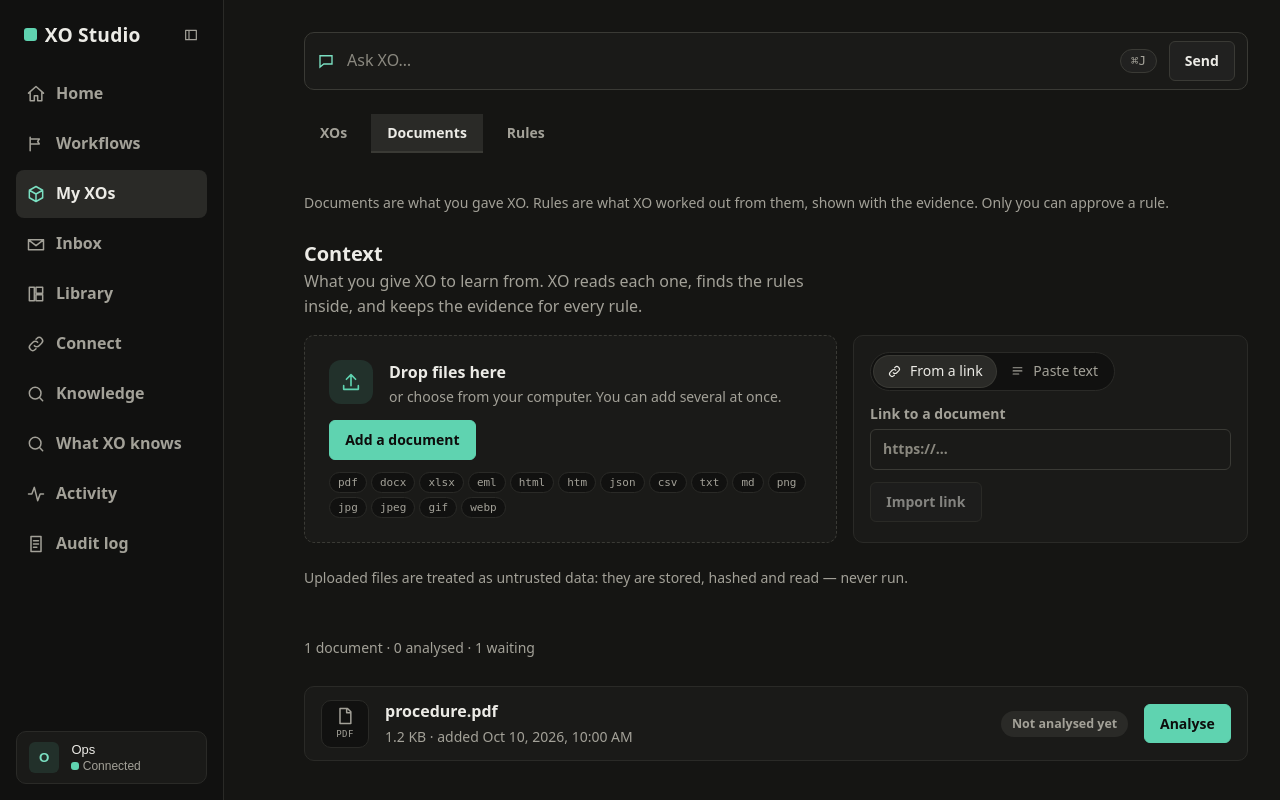
starting a process (workflow runtime) › a process that is not ready says what stands in the way and sends no run
The image size is (1280, 800).
Earlier steps of the test are not shown.
Click the button "Analyse" at (1187, 724), box left=1144, top=704, right=1231, bottom=743
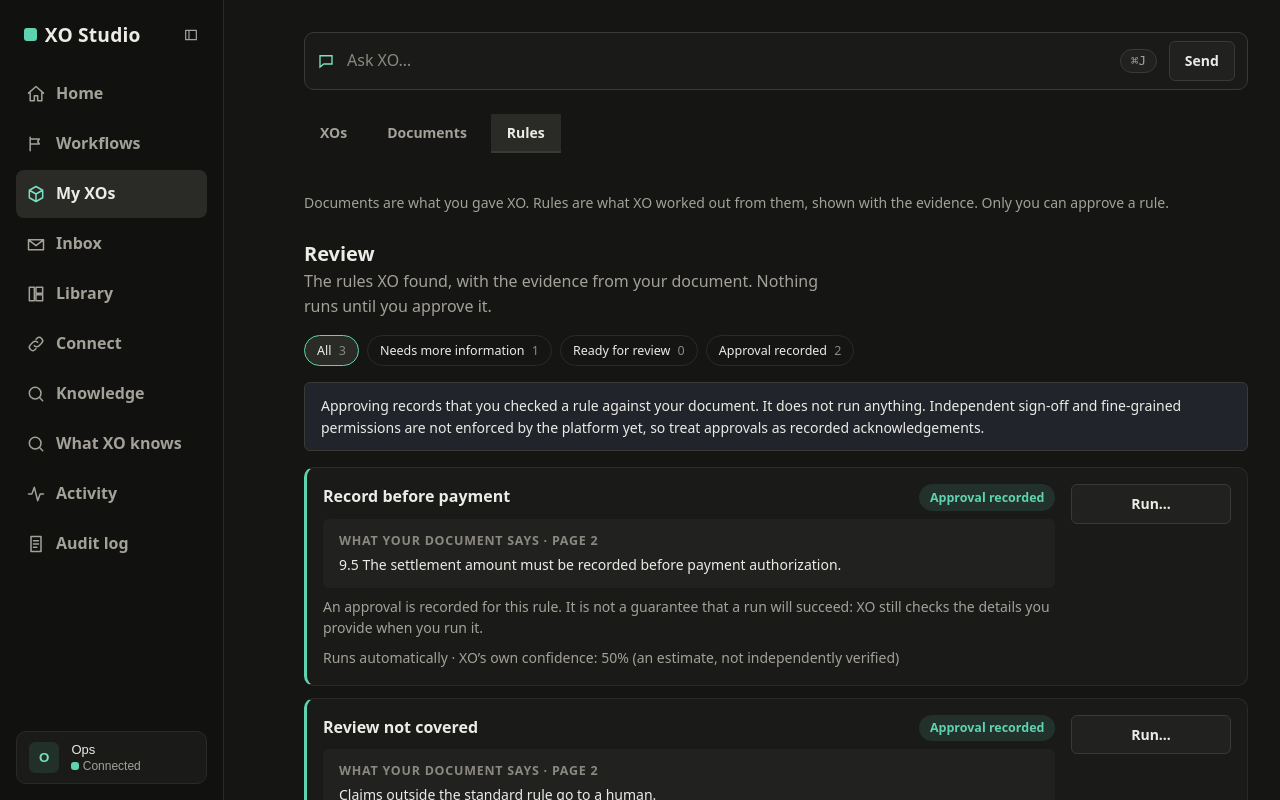
Check: the text "settlement amount must be recorded" is shown, box left=339, top=555, right=841, bottom=574
Click the button "Workflows" at (112, 144), box left=16, top=120, right=207, bottom=168
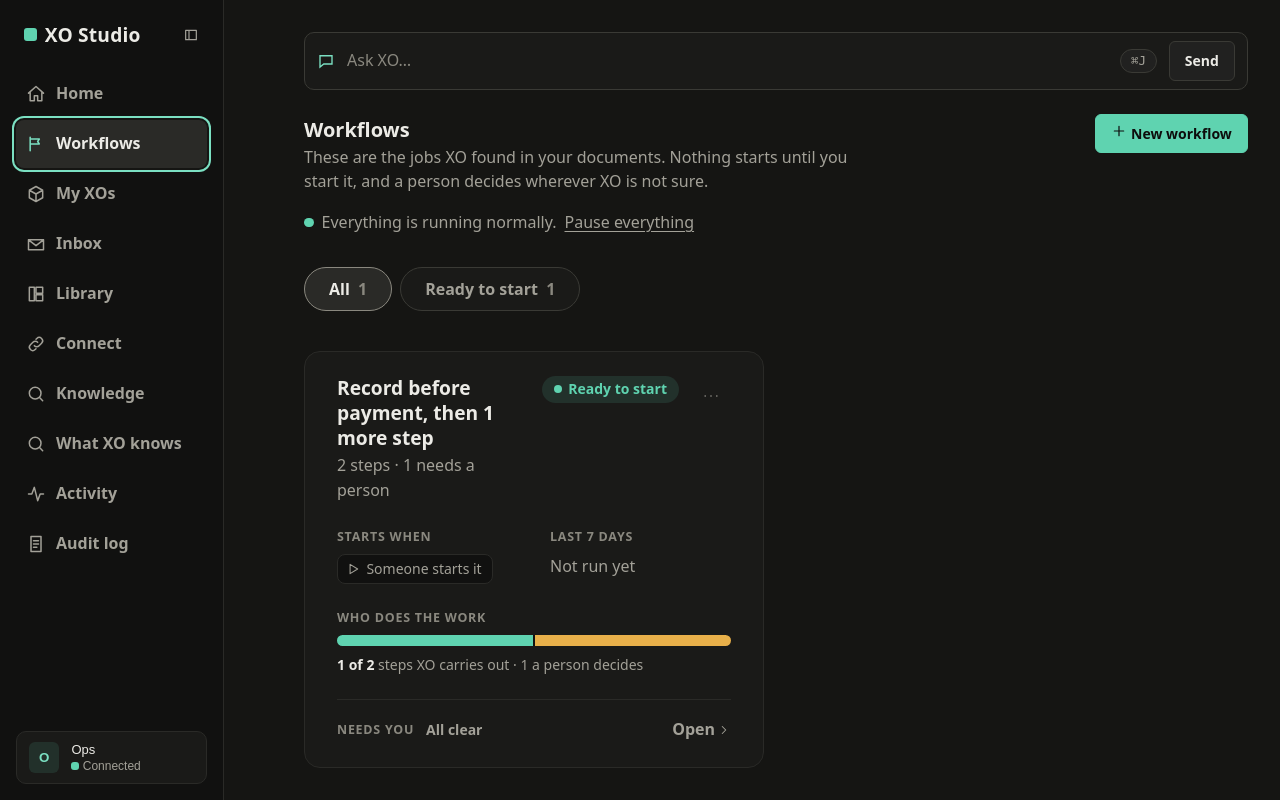
Check: the button "Record before payment, then 1 more step" is shown
Click the button "Record before payment, then 1 more step" at (433, 414), box left=337, top=376, right=530, bottom=451
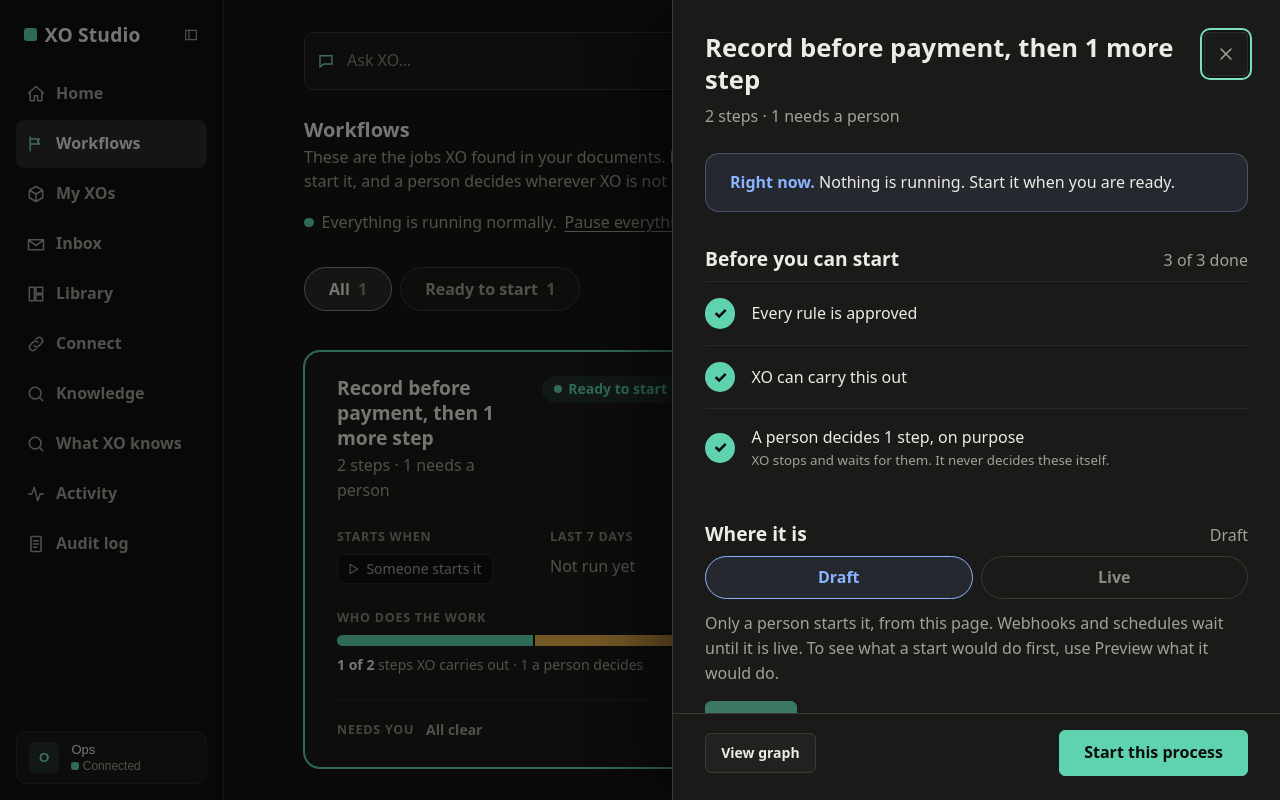
Check: the dialog is shown, box left=672, top=0, right=1279, bottom=799
Click the button "Start this process" at (1154, 753), box left=1059, top=730, right=1248, bottom=776
(page scrolled)
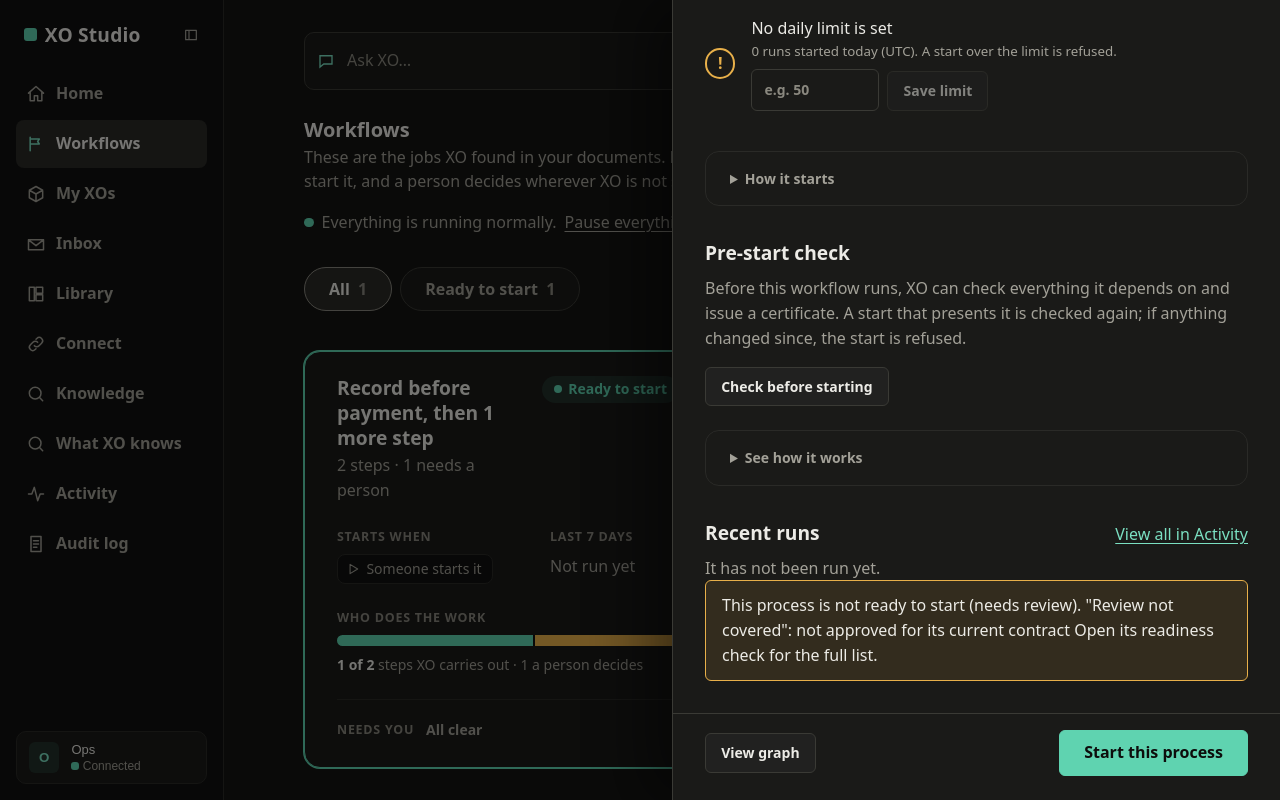
Check: the text "not ready to start (needs review)" is shown, box left=722, top=594, right=1214, bottom=666
